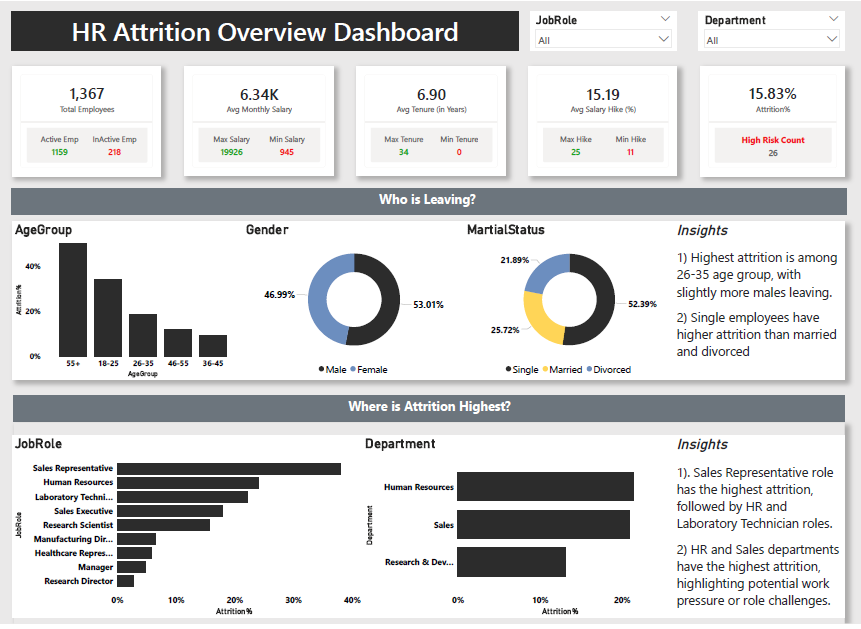

The page's visual inventory and layout, read from the dashboard file:
{"tool":"powerbi","page":{"name":"Attrition Overview","canvas":[1800,1300],"ordinal":0},"visuals":[{"type":"cardVisual","fields":{"Data":["Count(HR_attrition.EmpID)"]},"box":[25,135,310,230],"z":0},{"type":"cardVisual","fields":{"Data":["Avg(HR_attrition.MonthlyIncome)"]},"box":[384,136,312,228],"z":1000},{"type":"cardVisual","fields":{"Data":["Avg(HR_attrition.YearsAtCompany)"]},"box":[744,136,312,228],"z":2000},{"type":"cardVisual","fields":{"Data":["Avg(HR_attrition.PercentSalaryHike)"]},"box":[1104,136,310,228],"z":3000},{"type":"cardVisual","fields":{"Data":["HR_attrition.Attrition%"]},"box":[1462.5,135,302.5,230],"z":4000},{"type":"textbox","box":[24,390,1744,56],"z":5000},{"type":"shape","box":[25,460,1740,330],"z":6000},{"type":"columnChart","title":"AgeGroup","fields":{"Category":["HR_attrition.AgeGroup"],"Y":["HR_attrition.Attrition%"]},"box":[25,460,482.5,330],"z":7000},{"type":"donutChart","title":"Gender","fields":{"Category":["HR_attrition.Gender"],"Y":["HR_attrition.Attrition%"]},"box":[507.5,460,462.5,330],"z":8000},{"type":"donutChart","title":"MartialStatus","fields":{"Y":["HR_attrition.Attrition%"],"Category":["HR_attrition.MaritalStatus"]},"box":[970,460,437.5,330],"z":9000},{"type":"textbox","box":[27.5,822.5,1737.5,55],"z":10000},{"type":"shape","box":[27.5,880,1737.5,420],"z":11000},{"type":"barChart","title":"JobRole","fields":{"Category":["HR_attrition.JobRole"],"Y":["HR_attrition.Attrition%"]},"box":[25,907.5,732.5,380],"z":12000},{"type":"barChart","title":"Department","fields":{"Category":["HR_attrition.Department"],"Y":["HR_attrition.Attrition%"]},"box":[757.5,907.5,650,380],"z":13000},{"type":"shape","box":[22.5,20,1060,82.5],"z":14000},{"type":"textbox","box":[22.5,20,1060,82.5],"z":15000},{"type":"slicer","fields":{"Values":["HR_attrition.JobRole"]},"box":[1107.5,20,305,82.5],"z":16000},{"type":"slicer","fields":{"Values":["HR_attrition.Department"]},"box":[1460,20,305,82.5],"z":17000},{"type":"textbox","title":"Insights","box":[1407.5,460,357.5,330],"z":18000},{"type":"textbox","title":"Insights","box":[1407.5,907.5,357.5,380],"z":19000}]}

Visuals, with their boxes in screenshot pixels (x1, y1, x2, y2), scaled from the page's 1800x1300 canvas onto the 861x629 screenshot:
cardVisual - Count(HR_attrition.EmpID): (12, 65, 160, 177)
cardVisual - Avg(HR_attrition.MonthlyIncome): (184, 66, 333, 176)
cardVisual - Avg(HR_attrition.YearsAtCompany): (356, 66, 505, 176)
cardVisual - Avg(HR_attrition.PercentSalaryHike): (528, 66, 676, 176)
cardVisual - HR_attrition.Attrition%: (700, 65, 844, 177)
textbox: (11, 189, 846, 216)
shape: (12, 223, 844, 382)
"AgeGroup" columnChart: (12, 223, 243, 382)
"Gender" donutChart: (243, 223, 464, 382)
"MartialStatus" donutChart: (464, 223, 673, 382)
textbox: (13, 398, 844, 425)
shape: (13, 426, 844, 628)
"JobRole" barChart: (12, 439, 362, 623)
"Department" barChart: (362, 439, 673, 623)
shape: (11, 10, 518, 50)
textbox: (11, 10, 518, 50)
slicer - HR_attrition.JobRole: (530, 10, 676, 50)
slicer - HR_attrition.Department: (698, 10, 844, 50)
"Insights" textbox: (673, 223, 844, 382)
"Insights" textbox: (673, 439, 844, 623)
